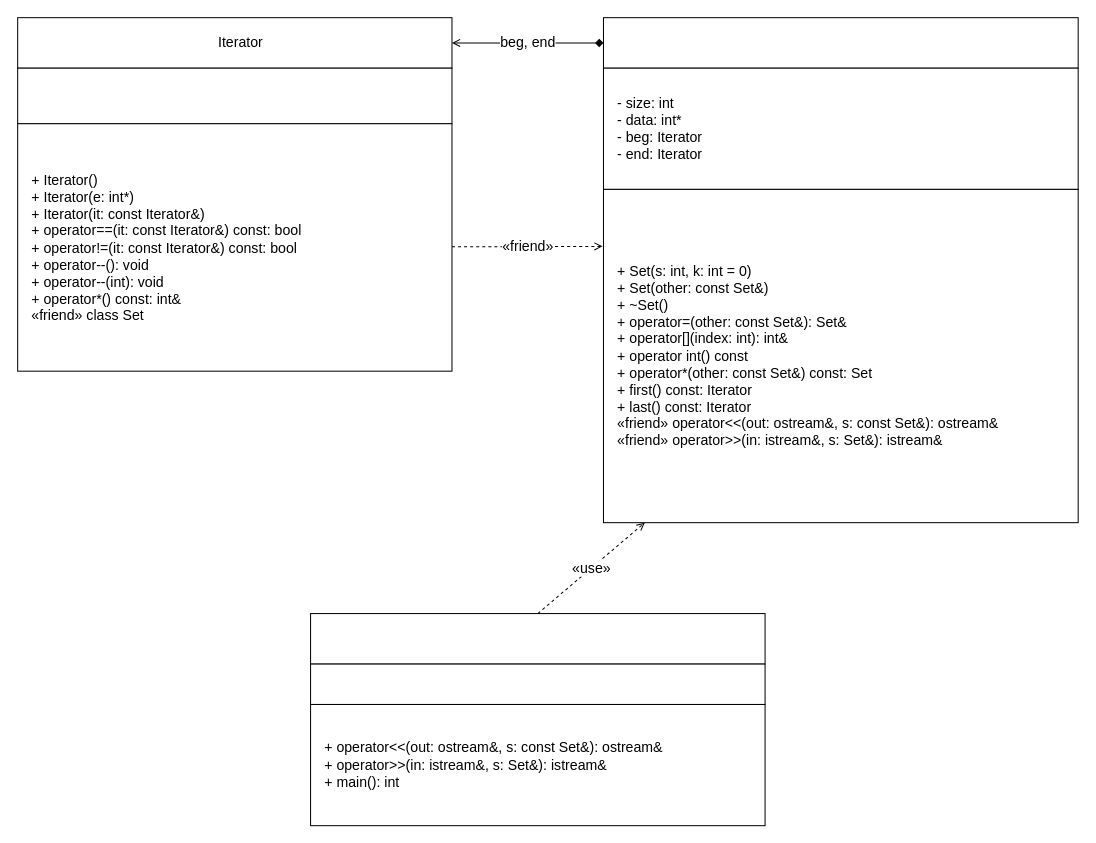
Image size: 1096x843. Some labels were removed from this diagram. The shapes that lost their labels are listed below. From the top down, each one's centre as x and y in pixels, then its label:
At (840,42): "Set".
At (234,95): "- elem: int*".
At (537,638): "Global functions".
